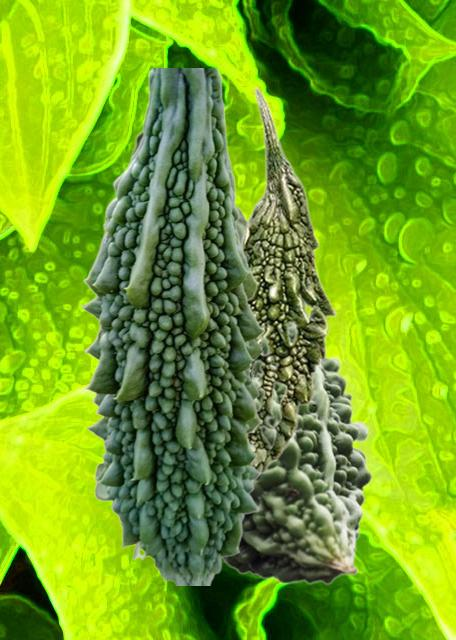ampalaya: (104, 130, 372, 584), (80, 68, 264, 584), (240, 85, 336, 481)
